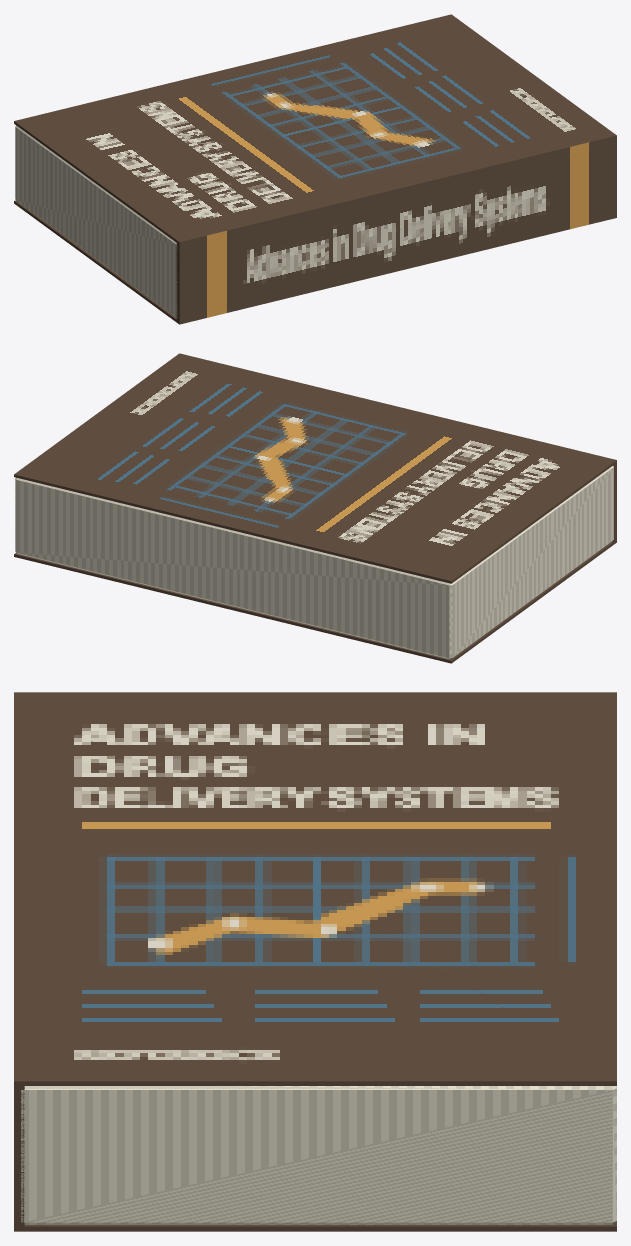
Rendered from book_nonf_soft_psych_adrugds.glb.
3 views of the same model, one above another, from view 1: azimuth 30°, elevation 25°; view 2: azimuth 150°, elevation 25°; view 3: azimuth 270°, elevation 25° (orthographic). The views are drawn at different scales.
Parts seen in each view (by area): view 1: block_front, block_spine, block_pages, block_back; view 2: block_front, block_pages, block_back, block_spine; view 3: block_front, block_pages, block_spine, block_back.
Boxes of the visible parts, bbox=[...] form: block_front: bbox=[14, 14, 615, 243]; block_spine: bbox=[176, 135, 616, 324]; block_pages: bbox=[15, 125, 177, 317]; block_back: bbox=[14, 200, 178, 323]; block_front: bbox=[14, 354, 616, 583]; block_pages: bbox=[15, 466, 613, 659]; block_back: bbox=[14, 541, 616, 663]; block_spine: bbox=[179, 353, 616, 542]; block_front: bbox=[16, 692, 616, 1085]; block_pages: bbox=[21, 1086, 616, 1224]; block_spine: bbox=[14, 692, 24, 1231]; block_back: bbox=[16, 1221, 616, 1231].
Size of the model in its own units: 0.244 by 0.0439 by 0.1599.
1 material, 1 textured.
